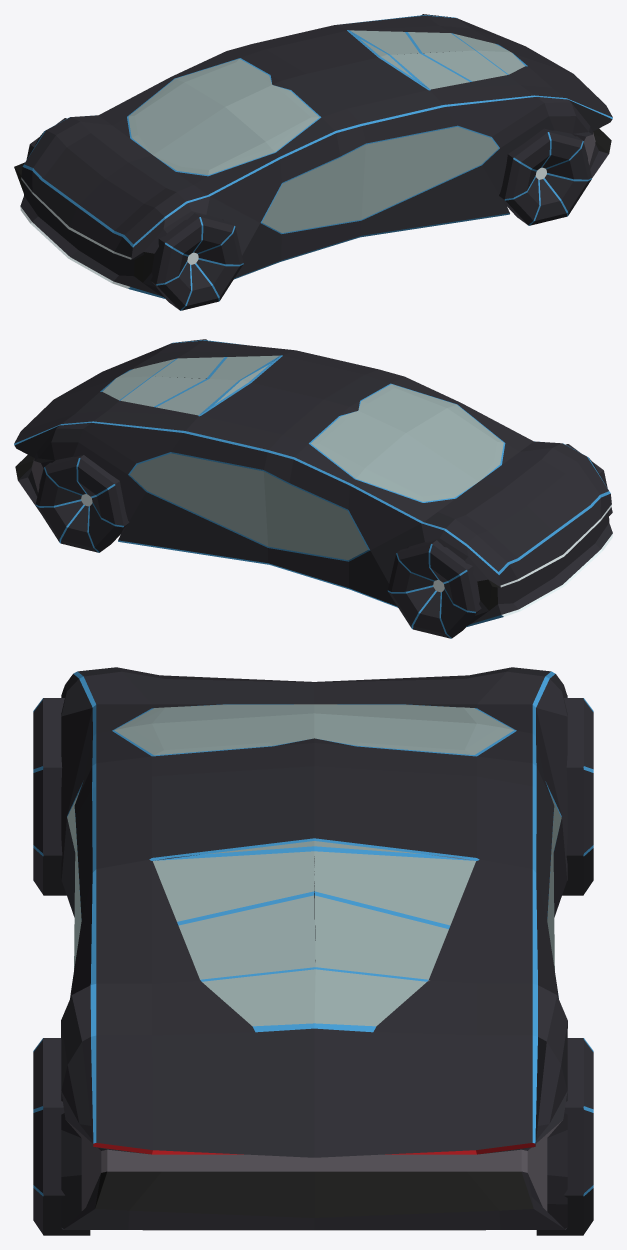
File: carroIngenieria.fbx
3 renders of one model, top to bottom at view 1: azimuth 30°, elevation 25°; view 2: azimuth 150°, elevation 25°; view 3: azimuth 270°, elevation 25°, orthographic. The views are drawn at different scales.
Visible parts, largest first — view 1: Cuerpo, RuedaDelanteraIzq, RuedaTraseraIzq; view 2: Cuerpo, RuedaDelanterDer, RuedaTraseraDer; view 3: Cuerpo, RuedaTraseraIzq, RuedaDelanteraIzq, RuedaTraseraDer, RuedaDelanterDer.
Boxes of the visible parts, <box> form: Cuerpo: <box>14,14,612,298</box>; RuedaDelanteraIzq: <box>150,213,243,310</box>; RuedaTraseraIzq: <box>499,128,591,225</box>; Cuerpo: <box>14,339,612,627</box>; RuedaDelanterDer: <box>387,540,481,638</box>; RuedaTraseraDer: <box>35,455,129,552</box>; Cuerpo: <box>61,667,567,1230</box>; RuedaTraseraIzq: <box>33,1038,90,1235</box>; RuedaDelanteraIzq: <box>33,698,66,895</box>; RuedaTraseraDer: <box>536,1038,593,1235</box>; RuedaDelanterDer: <box>562,698,593,895</box>.
Size of the model in its own units: 486 by 129 by 233.
1 material, 1 textured.
